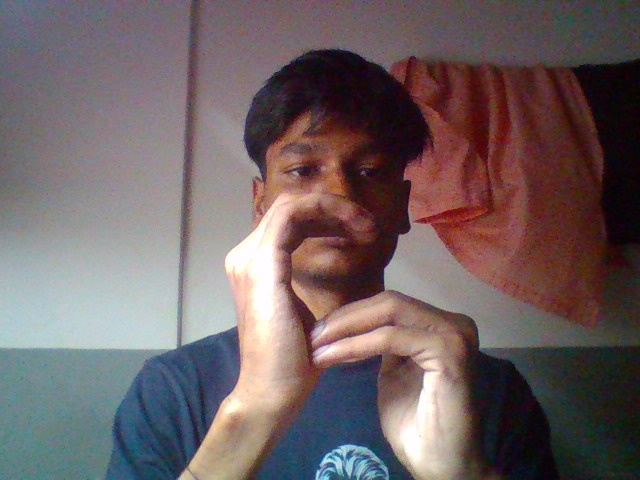G: (206, 176, 558, 478)
